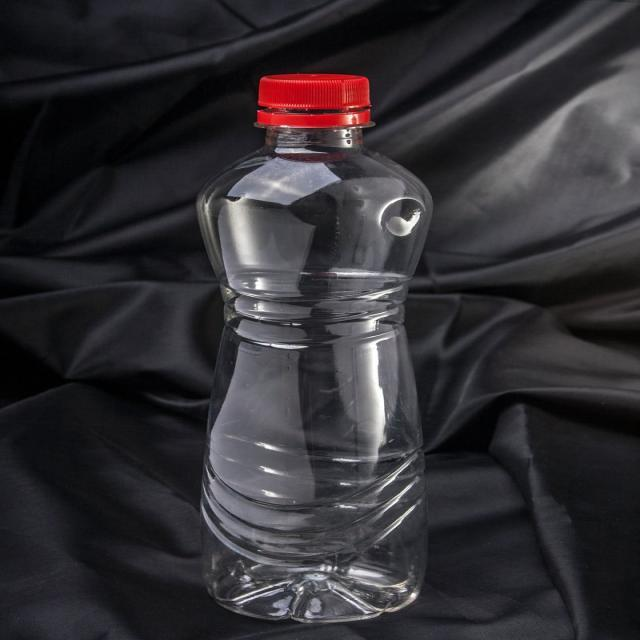Botella Plastica: (198, 81, 454, 619)
